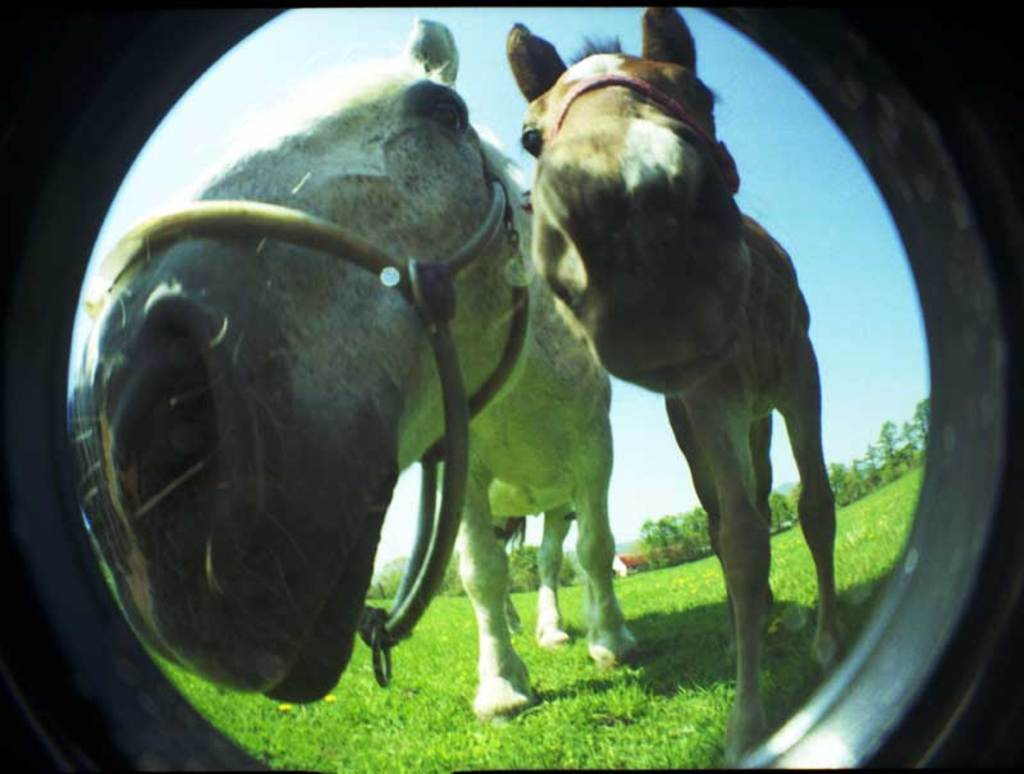Animal: (84, 17, 616, 720), (500, 0, 838, 756)
